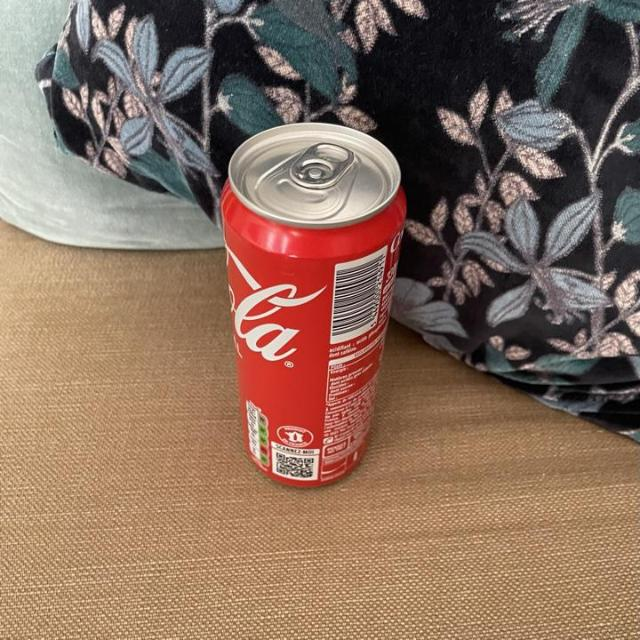can: (212, 115, 412, 493)
